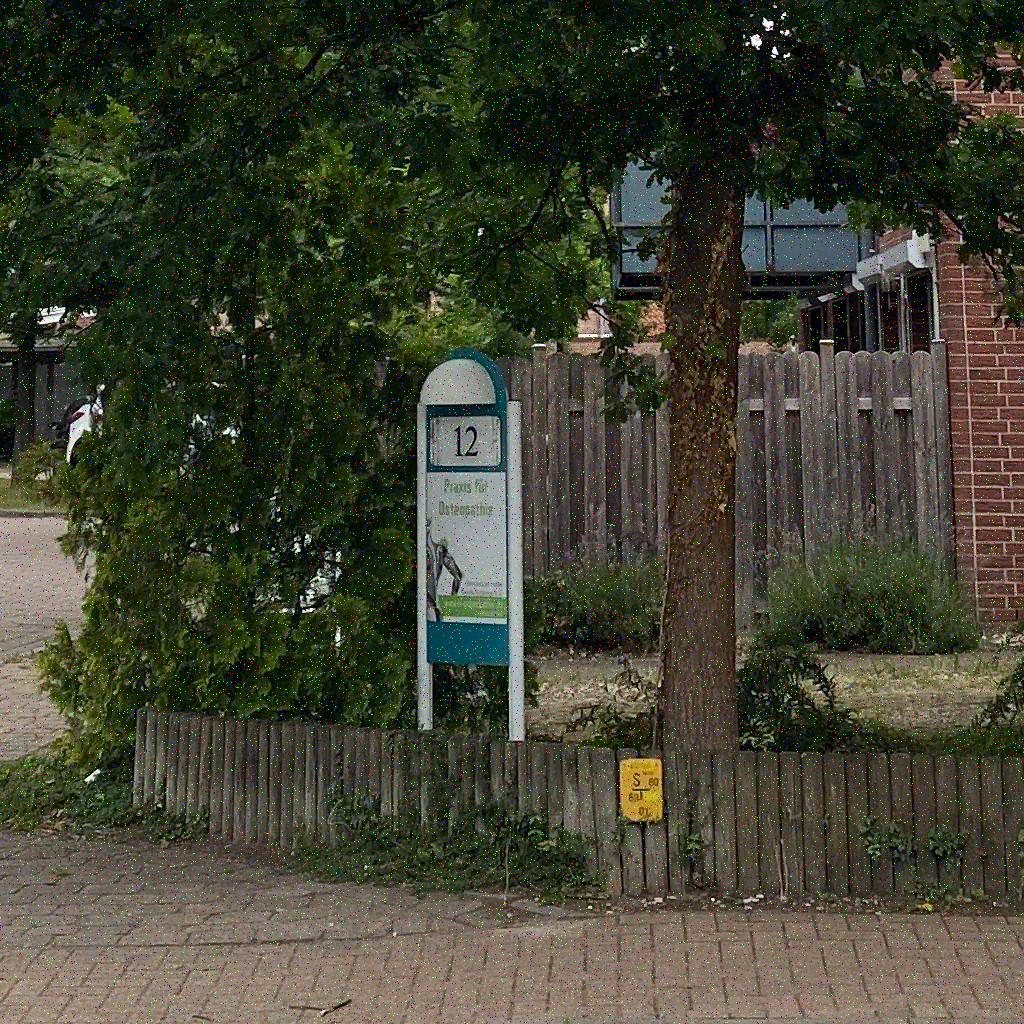tree: (1, 1, 1024, 749), (36, 36, 539, 770)
